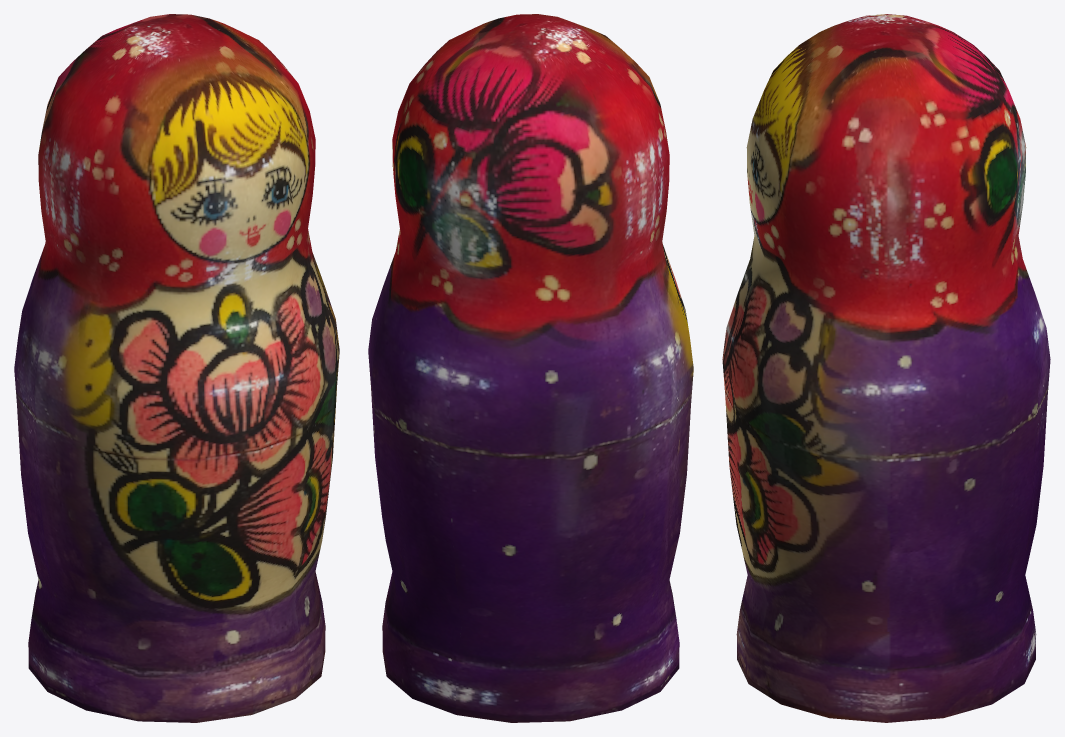
Rendered from matrtioshka_doll.glb.
The picture shows the model from 3 angles, left to right: view 1: azimuth 30°, elevation 25°; view 2: azimuth 150°, elevation 25°; view 3: azimuth 270°, elevation 25°; orthographic projection.
Visible parts, largest first — view 1: matrioshka_doll; view 2: matrioshka_doll; view 3: matrioshka_doll.
Part boxes in pixels (x1,y1,x2,y2): matrioshka_doll: [14, 14, 339, 722]; matrioshka_doll: [368, 14, 693, 722]; matrioshka_doll: [722, 14, 1050, 722].
Bounding box in the file's own units: 0.1011 × 0.2151 × 0.1011.
Materials: 1 (1 with a texture image).
